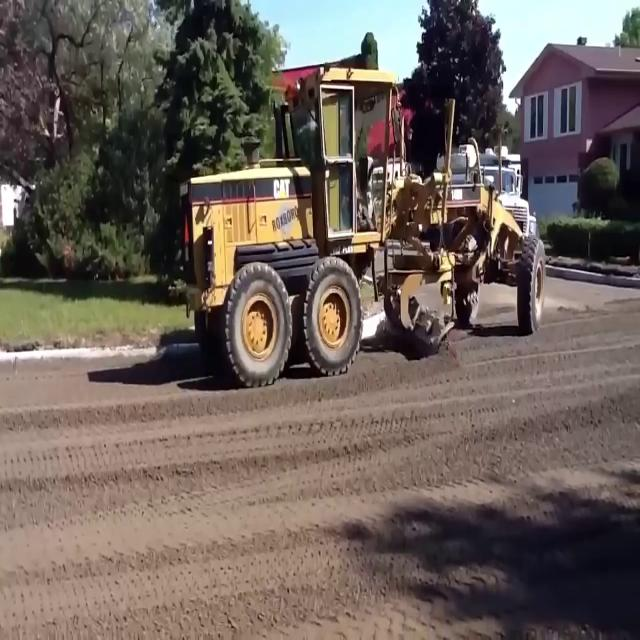buldozerpayloadergrader: (167, 63, 547, 386)
